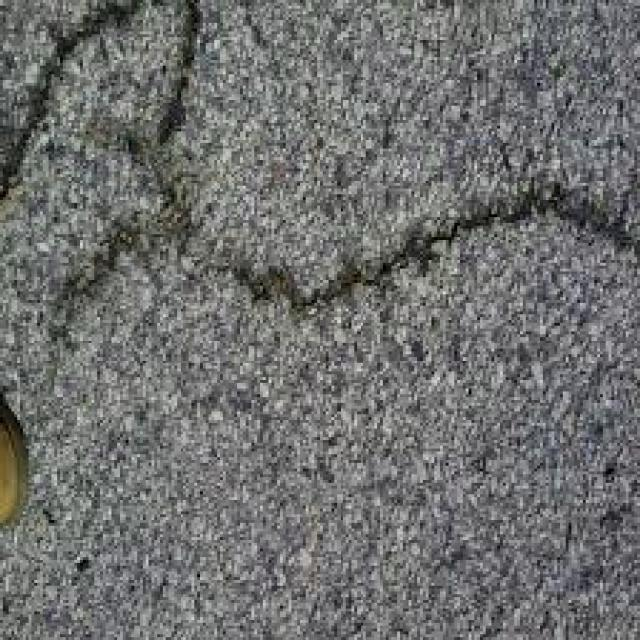crack: (16, 0, 640, 332)
